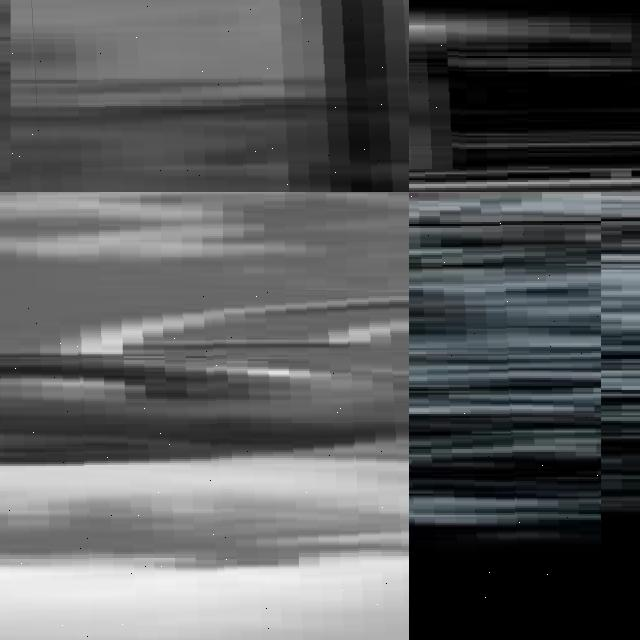street light: (0, 290, 409, 640), (409, 192, 601, 640), (10, 0, 409, 192), (409, 25, 458, 171)
